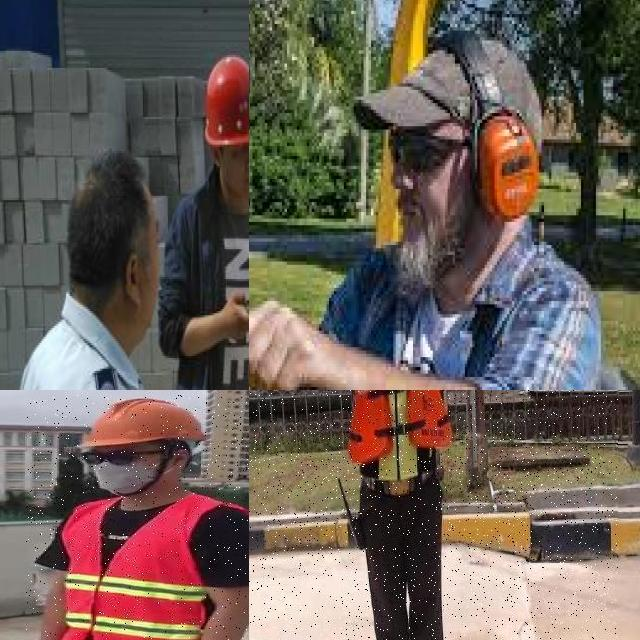Ear-protection: (435, 24, 543, 224)
No_Ear-Protection: (122, 244, 145, 317), (161, 444, 194, 478)
glasses: (72, 441, 201, 469)
head_helmet: (71, 396, 207, 450)
person: (249, 390, 618, 640), (26, 397, 249, 640)
vest: (55, 496, 229, 640), (351, 390, 452, 481)
